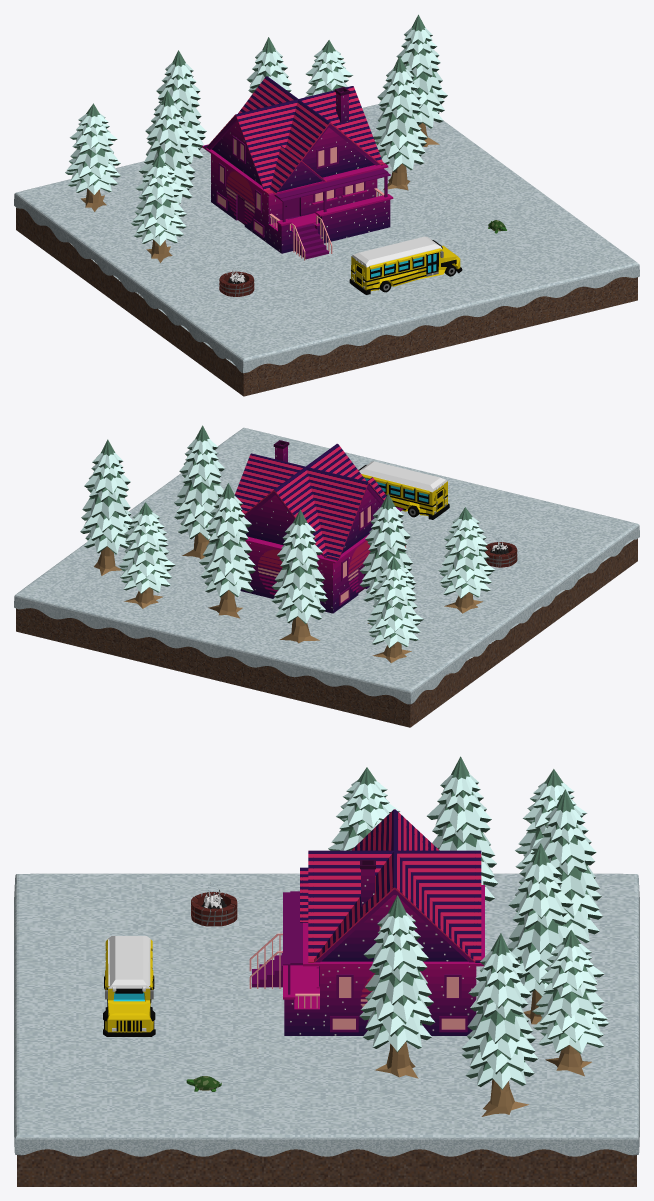
3 views of the same model, one above another, from view 1: azimuth 30°, elevation 25°; view 2: azimuth 150°, elevation 25°; view 3: azimuth 270°, elevation 25° (orthographic). The views are drawn at different scales.
Parts seen in each view (by area): view 1: Cube.003, Cube.156, VEHICLES_SCHOOL_BUS, OBJRANDOM_CAMPFIRE; view 2: Cube.003, Cube.156, VEHICLES_SCHOOL_BUS, OBJRANDOM_CAMPFIRE; view 3: Cube.003, Cube.156, VEHICLES_SCHOOL_BUS, OBJRANDOM_CAMPFIRE.
Part boxes in pixels (x1,y1,x2,y2): Cube.003: [14, 14, 639, 396]; Cube.156: [202, 76, 393, 260]; VEHICLES_SCHOOL_BUS: [349, 236, 462, 294]; OBJRANDOM_CAMPFIRE: [219, 270, 254, 296]; Cube.003: [14, 425, 639, 727]; Cube.156: [235, 440, 405, 613]; VEHICLES_SCHOOL_BUS: [358, 461, 449, 519]; OBJRANDOM_CAMPFIRE: [485, 541, 517, 567]; Cube.003: [14, 756, 639, 1186]; Cube.156: [249, 809, 484, 1035]; VEHICLES_SCHOOL_BUS: [103, 936, 155, 1036]; OBJRANDOM_CAMPFIRE: [191, 889, 237, 926].
Size of the model in its own units: 4040 by 1670 by 4040.
39 materials, 5 textured.
